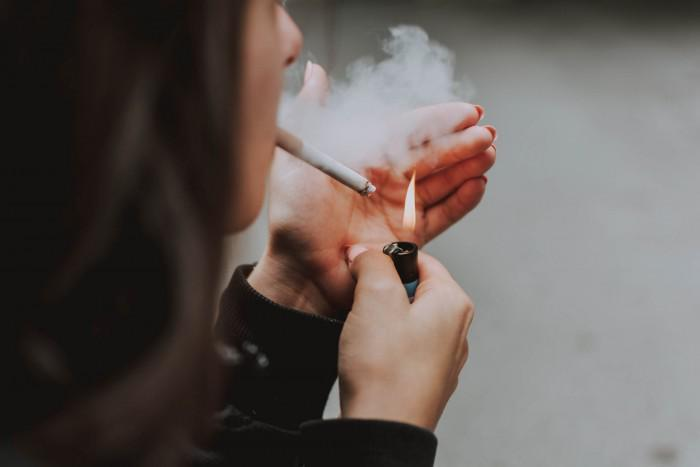smoke: (267, 121, 379, 199)
